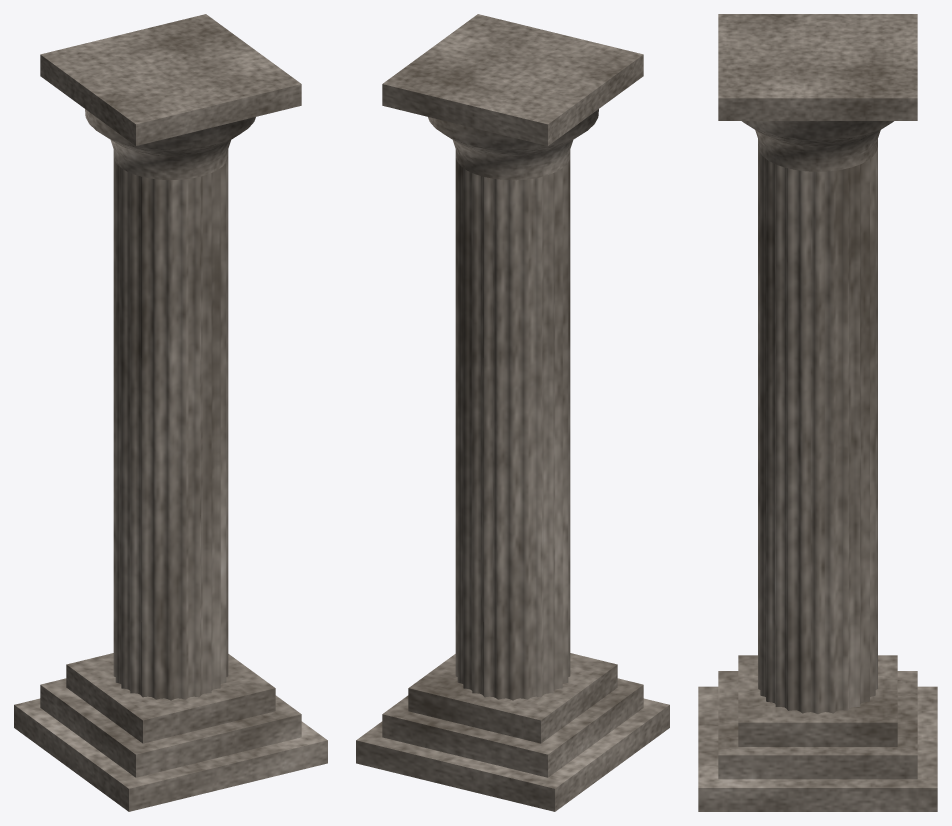
The picture shows the model from 3 angles, left to right: view 1: azimuth 30°, elevation 25°; view 2: azimuth 150°, elevation 25°; view 3: azimuth 270°, elevation 25°; orthographic projection. The views are drawn at different scales.
Visible parts, largest first — view 1: shaft, base, capital; view 2: shaft, base, capital; view 3: shaft, base, capital.
Boxes of the visible parts, x1,y1,x2,y2 form: shaft: (113, 156, 228, 700); base: (14, 653, 327, 811); capital: (40, 14, 301, 180); shaft: (455, 156, 570, 700); base: (356, 653, 669, 811); capital: (382, 14, 643, 180); shaft: (758, 147, 877, 713); base: (698, 655, 937, 811); capital: (718, 14, 917, 171).
Size of the model in its own units: 2.4 by 7.8 by 2.4.
Materials: 3 (3 with a texture image).
